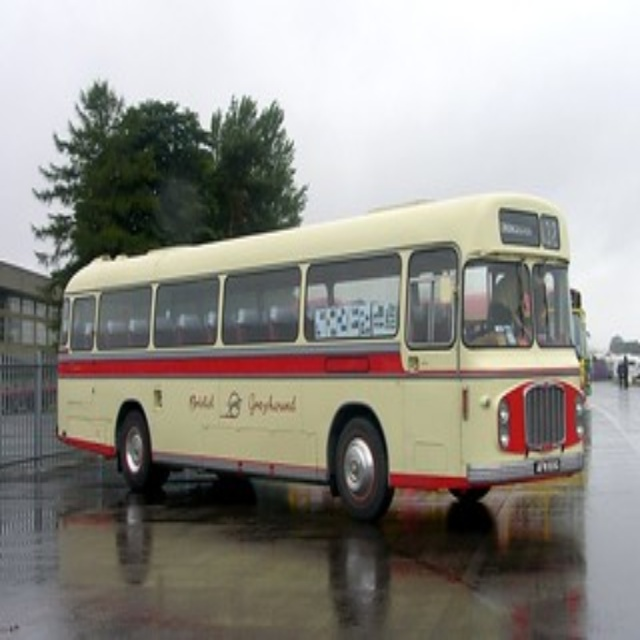Bus: (56, 188, 590, 519)
